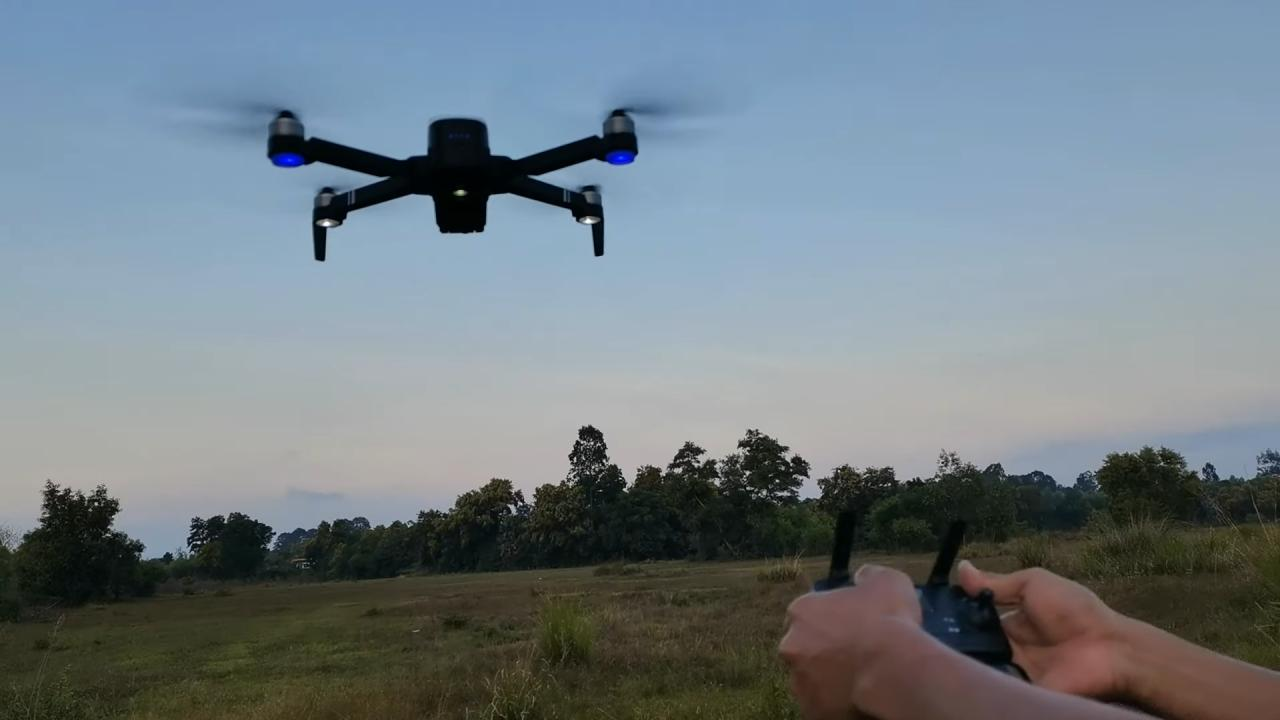Drone: (146, 56, 768, 274)
